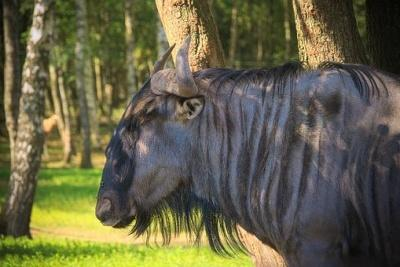buffalo: (97, 37, 399, 266)
